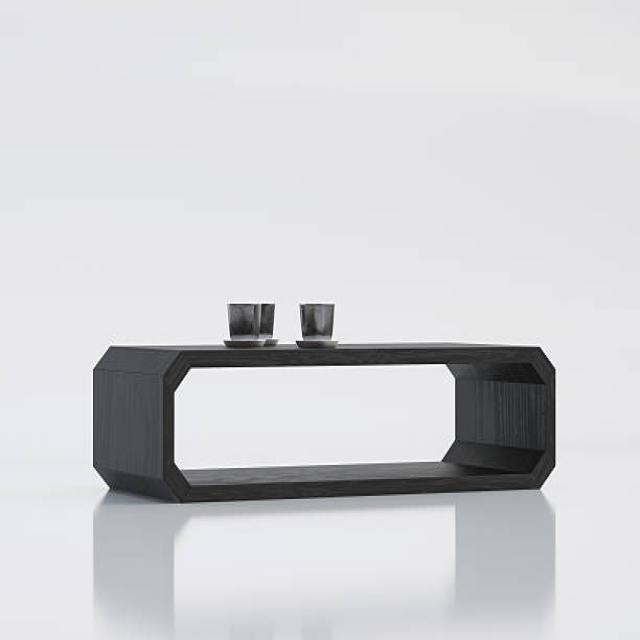table: (91, 339, 556, 502)
